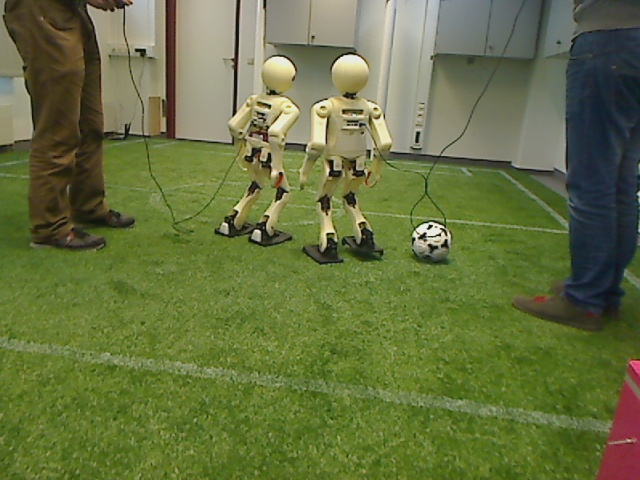ball: (407, 218, 455, 266)
robot: (301, 52, 390, 263), (219, 50, 301, 250)
